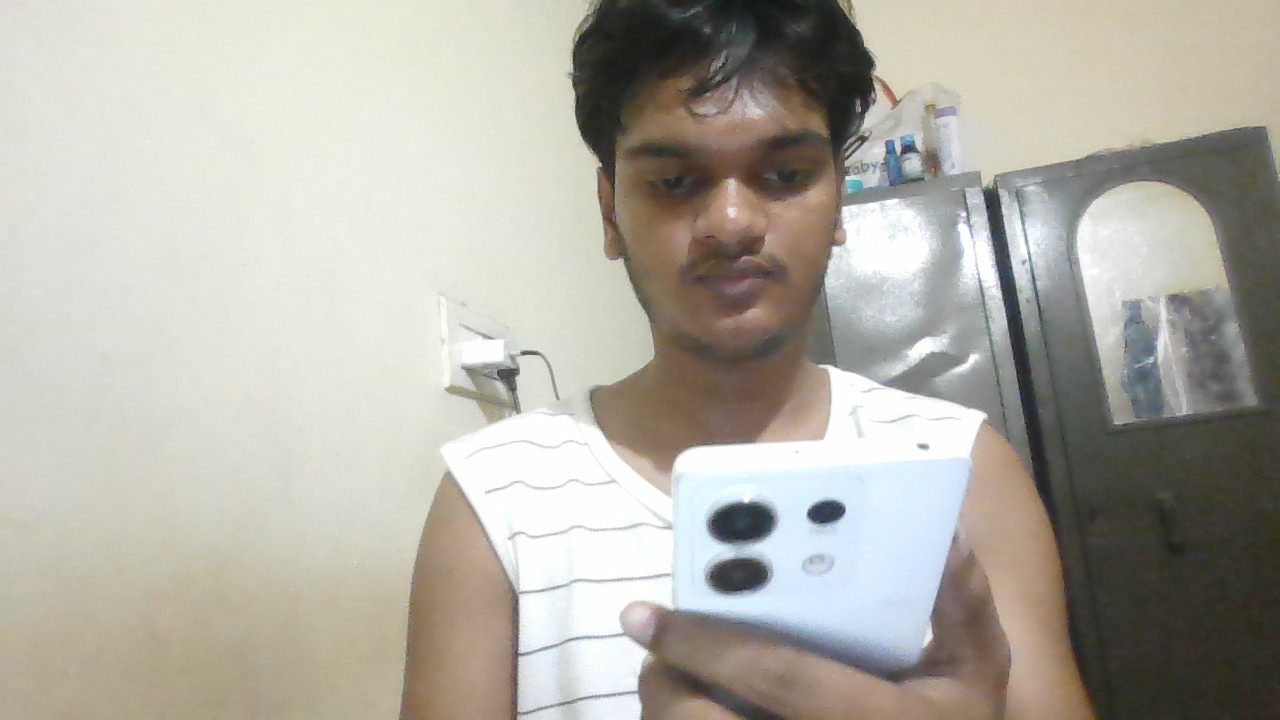phone: (671, 447, 966, 619)
